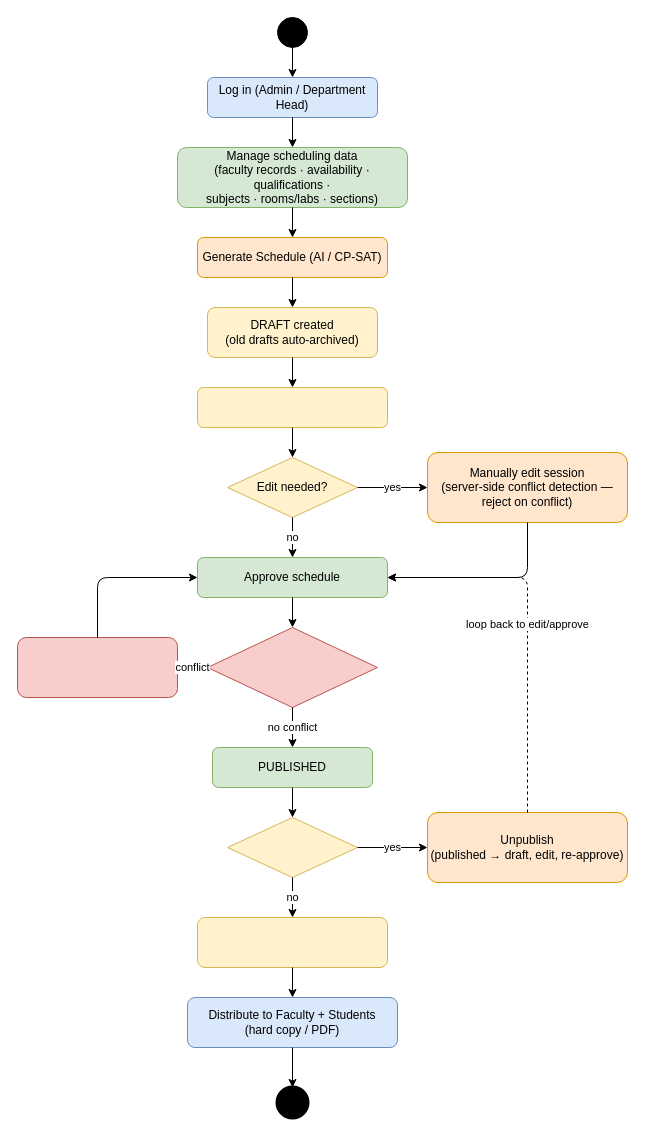
This 645x1137 diagram has some shape labels left out. Here are the shapes that lost their labels. From the top down, the box of each, then its label:
(196, 386, 388, 428): Review generated schedule
(16, 636, 178, 698): Reject publication (fix conflicts, re-approve)
(206, 626, 378, 708): Publish conflict gate (cross-section check)
(226, 816, 358, 878): Changes needed?
(196, 916, 388, 968): Print / Download (browser print or Save as PDF)
